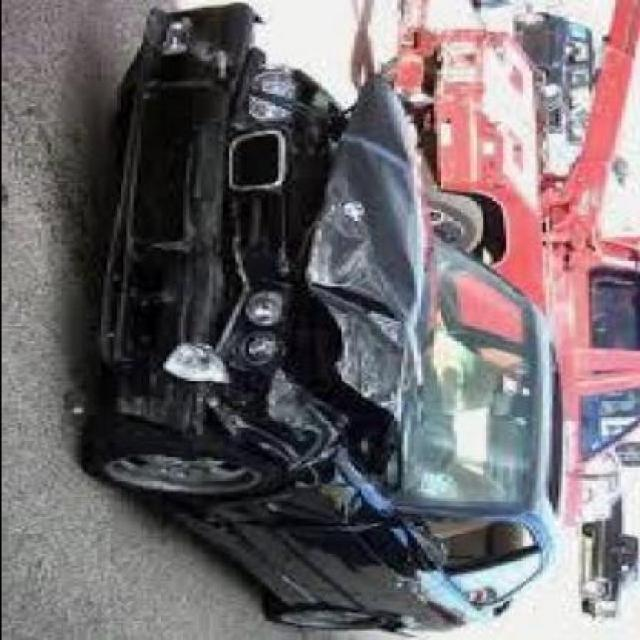damage: (96, 4, 426, 533)
